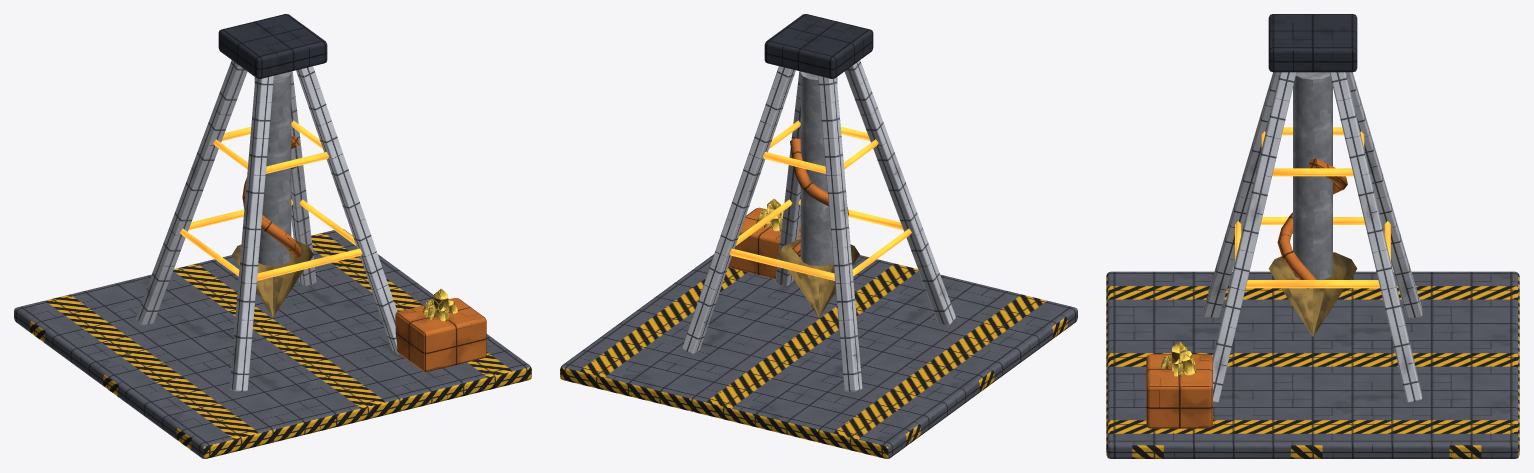
Rendered from sf_deepdrill.glb.
3 views of the same model, side by side, from view 1: azimuth 30°, elevation 25°; view 2: azimuth 150°, elevation 25°; view 3: azimuth 270°, elevation 25° (orthographic). The views are drawn at different scales.
Parts seen in each view (by area): view 1: Base, Drill; view 2: Base, Drill; view 3: Base, Drill.
Boxes of the visible parts, x1,y1,x2,y2 form: Base: (14,14,531,458); Drill: (232,71,313,317); Base: (560,14,1077,458); Drill: (778,71,859,317); Base: (1106,14,1519,458); Drill: (1268,72,1357,336).
Size of the model in its own units: 1.86 by 1.7 by 1.86.
Materials: 8 (8 with a texture image).
